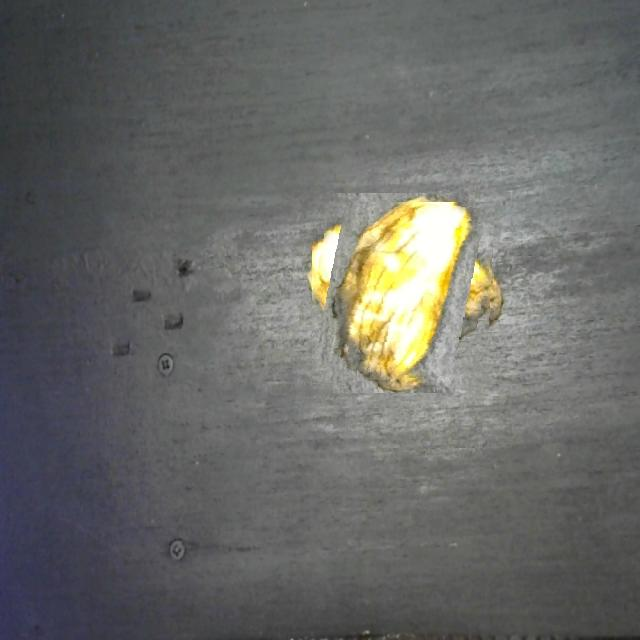biodegradable: (312, 202, 496, 385)
